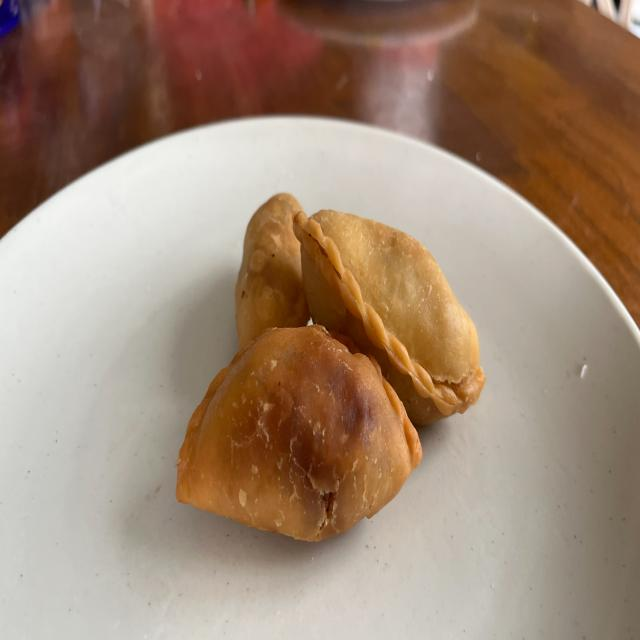karipap: (176, 324, 422, 542), (294, 209, 485, 424), (235, 193, 310, 349)
